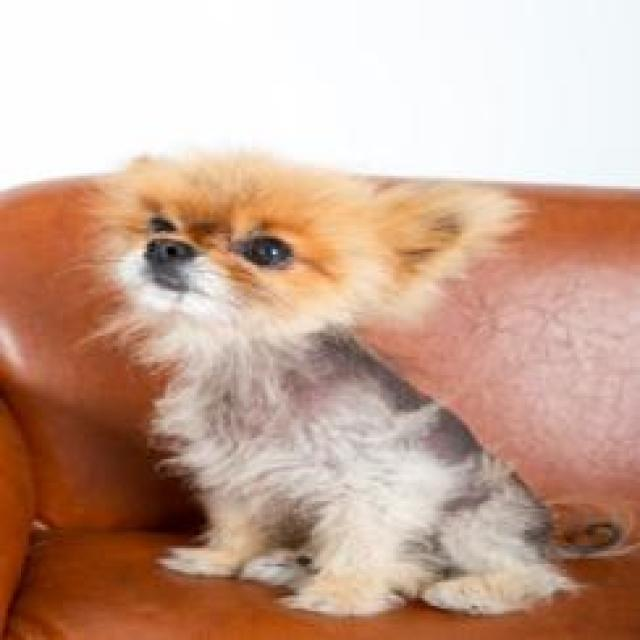fungal infection: (179, 350, 372, 477)
